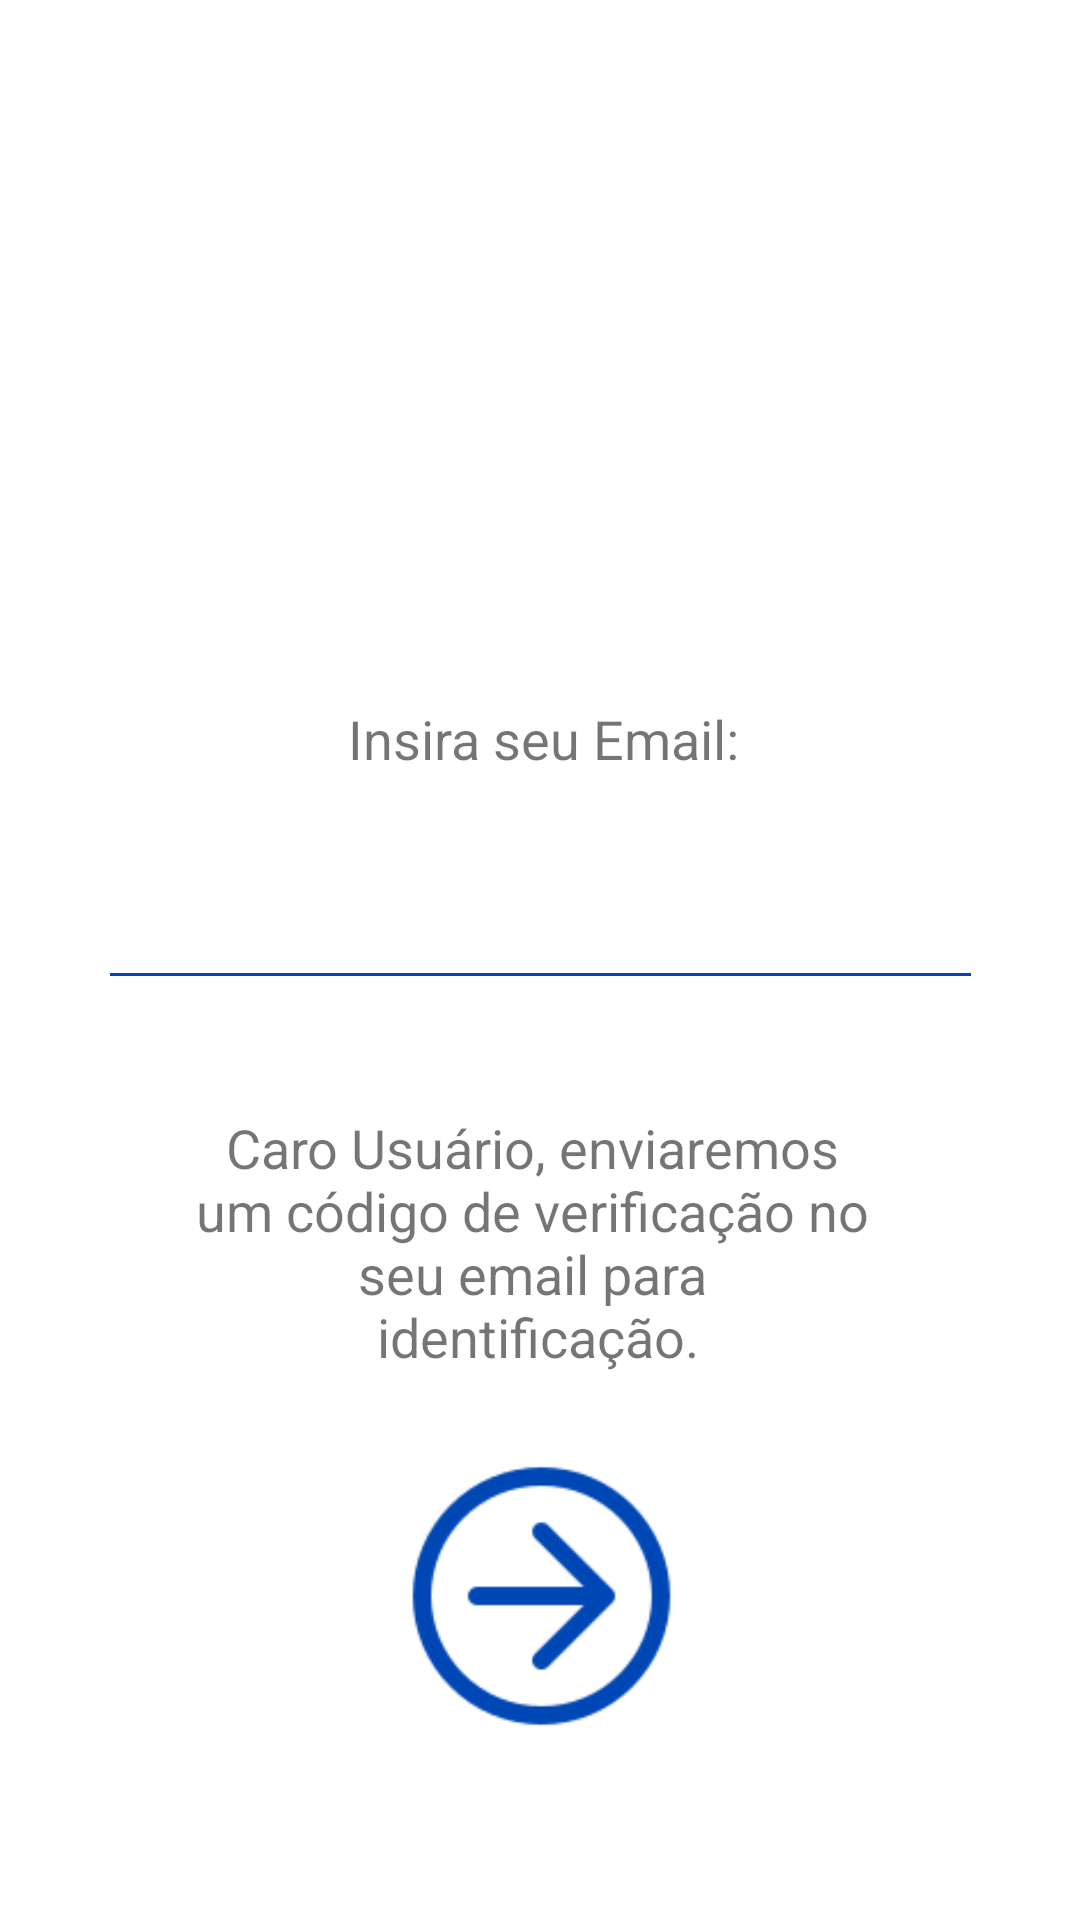

Named icons in this screenshot (1080px×1920px) and their centers, (x,y):
seta direita: (541,1596)
